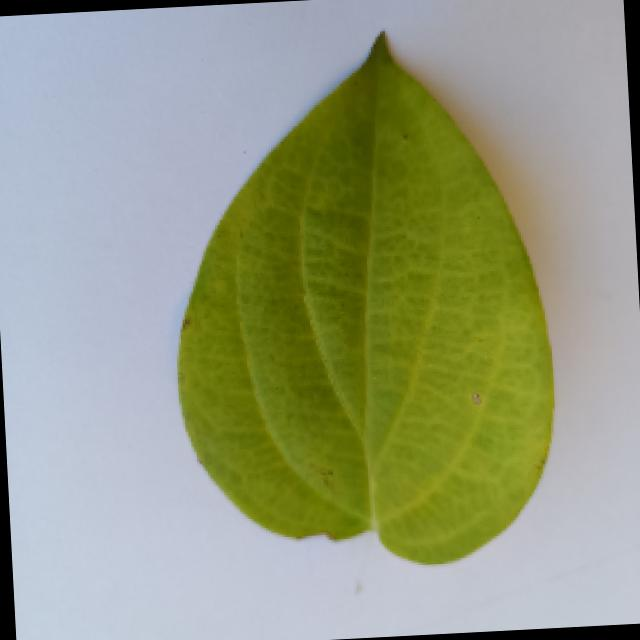slow-decline: (148, 27, 598, 576)
